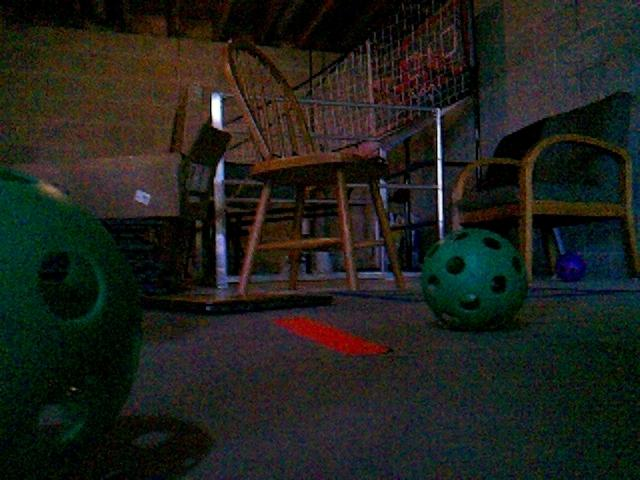Green: (0, 167, 142, 471), (418, 228, 529, 330)
Purple: (555, 251, 588, 282)
